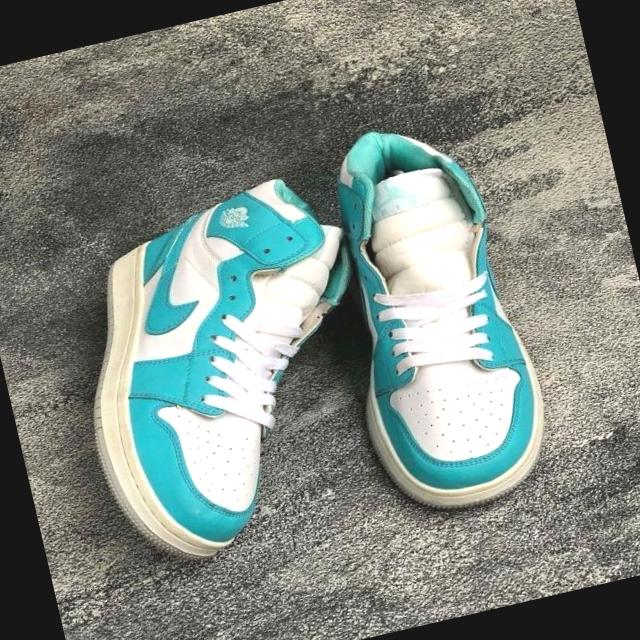nike_fake_jordan: (42, 167, 409, 580), (306, 104, 568, 525)
